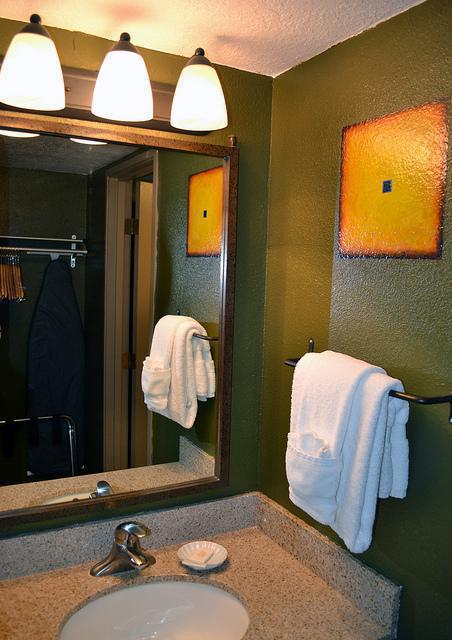Lavamanos: (55, 522, 259, 639)
